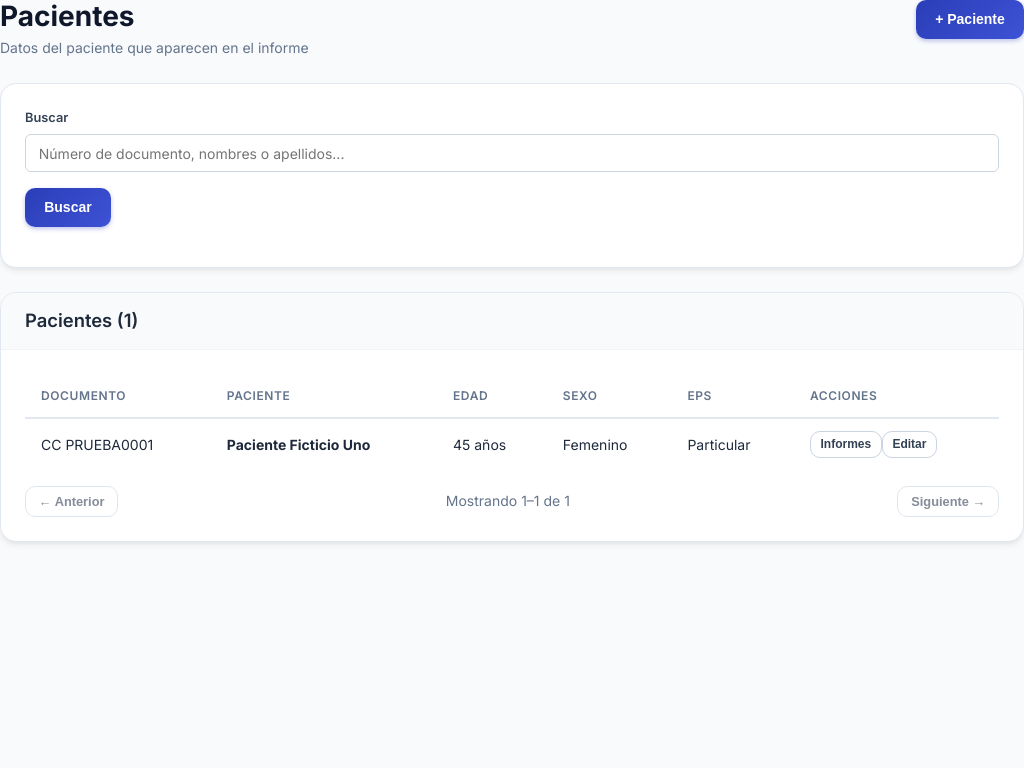
Test case: PacientesPage › muestra junto al campo el error que devuelve el backend
Click the button "Editar" at point(909, 445), box x1=882 y1=431 x2=937 y2=458
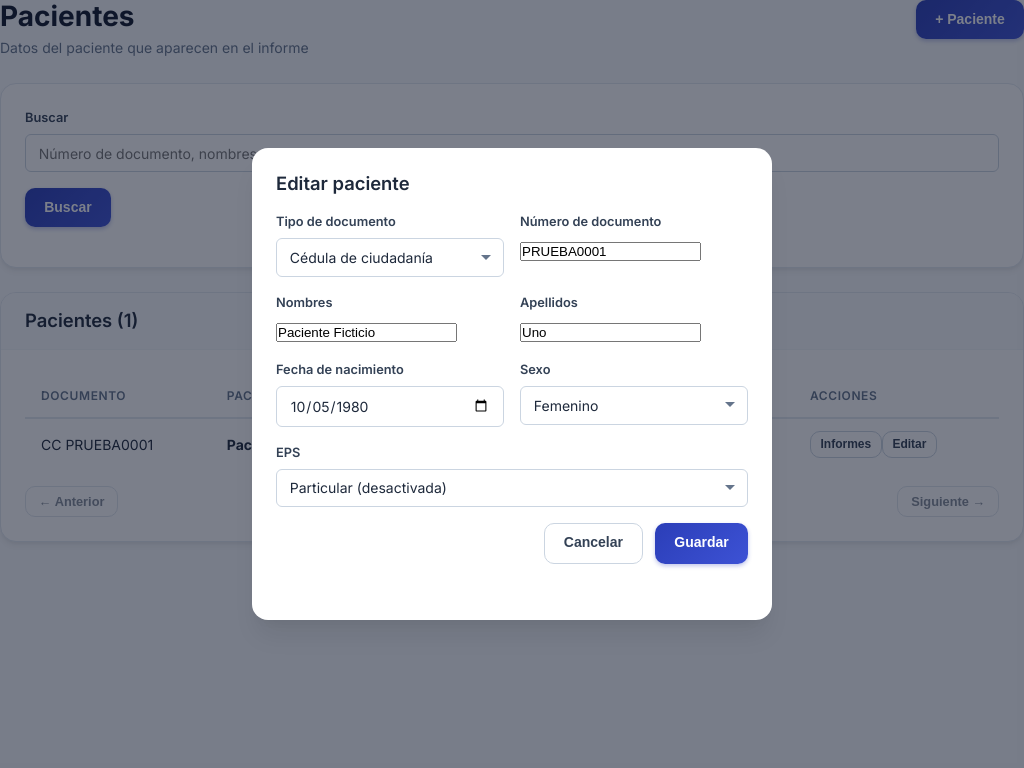
Now the field labelled "Nombres" holds "Paciente Ficticio", box x1=276 y1=323 x2=457 y2=342
Click the button "Guardar" at point(702, 543), box x1=655 y1=523 x2=748 y2=564
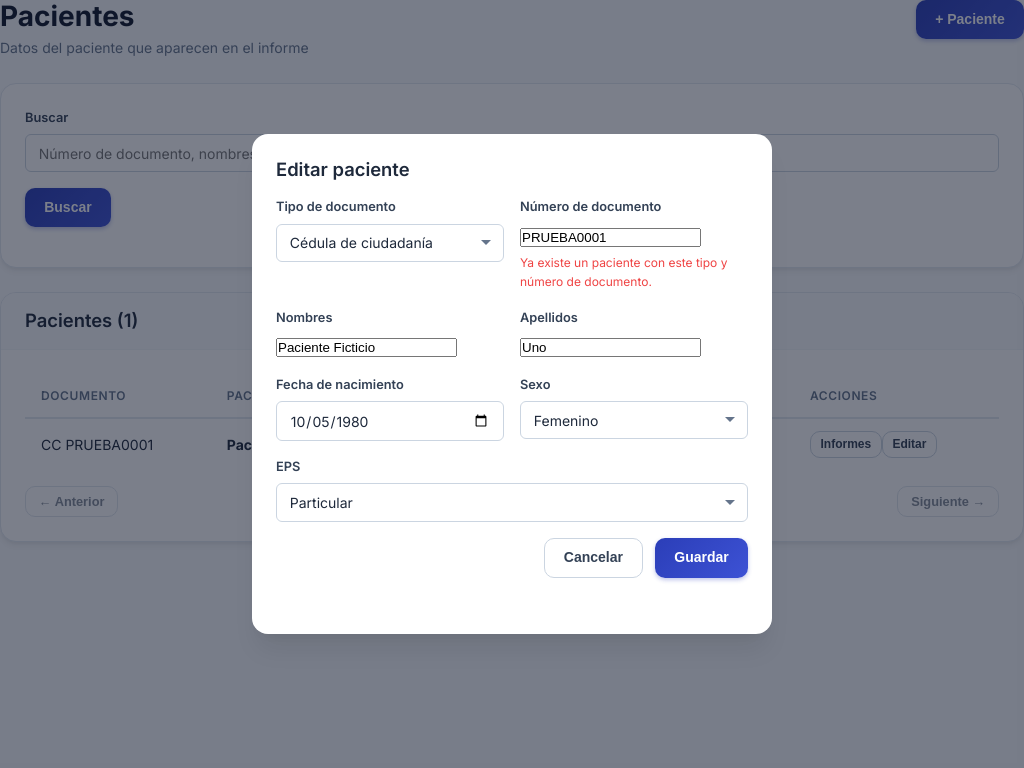
Now the text "Ya existe un paciente con este tipo y número de documento." is shown, box x1=520 y1=253 x2=748 y2=292
